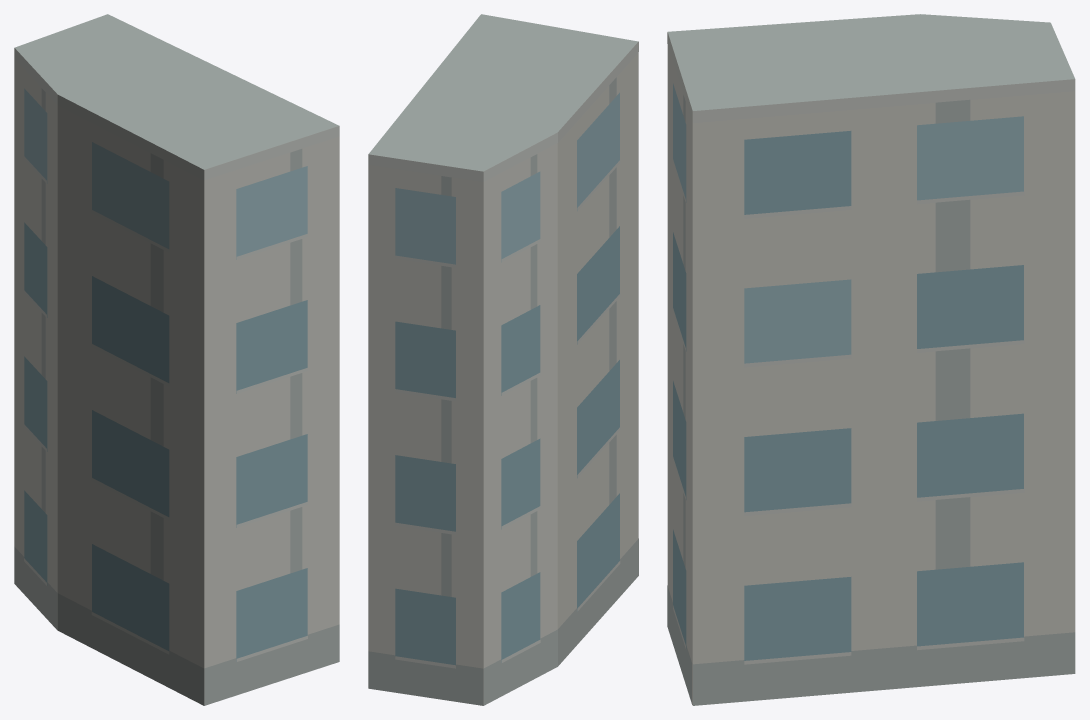
The model's file is residential-bef70b5b-bfa3-41e2-843f-a7538654e03a.glb.
3 views of the same model, side by side, from view 1: azimuth 30°, elevation 25°; view 2: azimuth 150°, elevation 25°; view 3: azimuth 270°, elevation 25° (orthographic). The views are drawn at different scales.
Visible parts, largest first — view 1: residential-bef70b5b-bfa3-41e2-843f-a7538654e03a.tmp; view 2: residential-bef70b5b-bfa3-41e2-843f-a7538654e03a.tmp; view 3: residential-bef70b5b-bfa3-41e2-843f-a7538654e03a.tmp.
Part boxes in pixels (left/top/right/bottom): residential-bef70b5b-bfa3-41e2-843f-a7538654e03a.tmp: left=14, top=14, right=339, bottom=705; residential-bef70b5b-bfa3-41e2-843f-a7538654e03a.tmp: left=368, top=14, right=638, bottom=705; residential-bef70b5b-bfa3-41e2-843f-a7538654e03a.tmp: left=667, top=14, right=1075, bottom=705.
Bounding box in the file's own units: 4.28 × 12.2 × 7.59.
